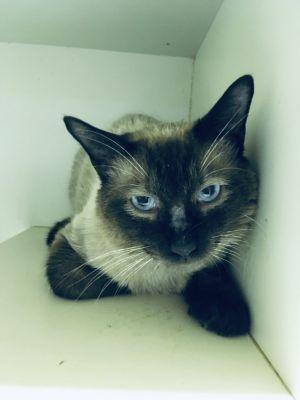siamese: (55, 71, 268, 281)
